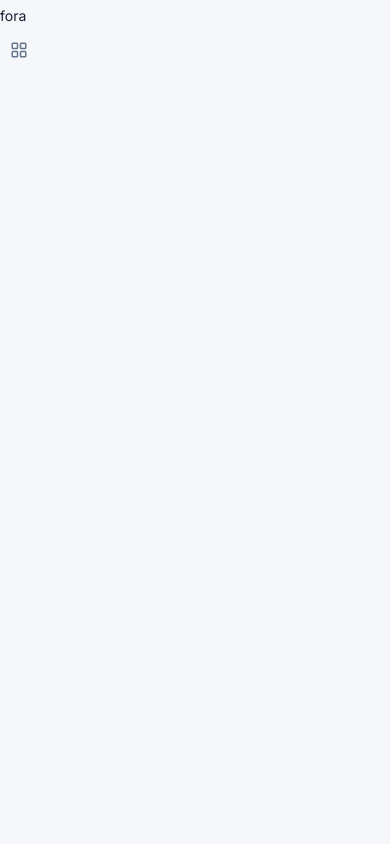
Test: MenuDeFerramentas — busca › acha pelo sinônimo, não só pelo nome da tela
The image size is (390, 844).
Click the button named "Todas as ferramentas" at [19, 50], box 0,32 -> 38,68
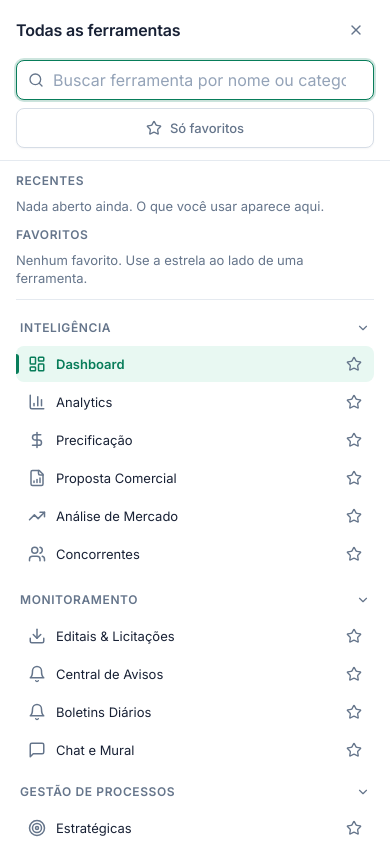
Type "pncp" into the search field labelled "Buscar ferramenta" at [195, 80], box 16,60 -> 374,100
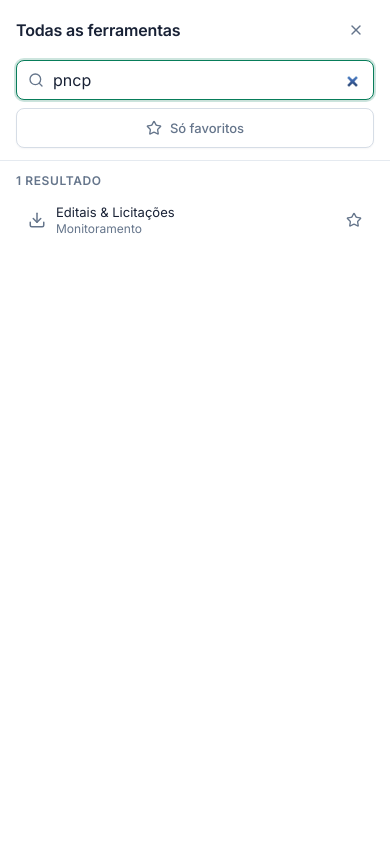
Check: the link "Editais & Licitações Monitoramento" is shown, box 28,204 -> 175,236
